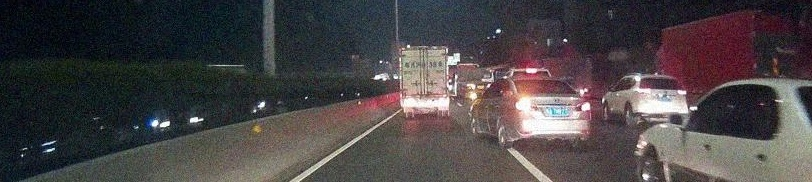L_light: (516, 103, 538, 112), (636, 90, 650, 96), (402, 100, 413, 104)
R_light: (574, 101, 590, 112), (676, 90, 687, 97), (436, 100, 447, 104)
T_light: (538, 78, 552, 83), (654, 76, 664, 80), (418, 49, 428, 52)
night-left: (510, 76, 591, 148)
night-no: (399, 45, 448, 117), (633, 74, 688, 127)
